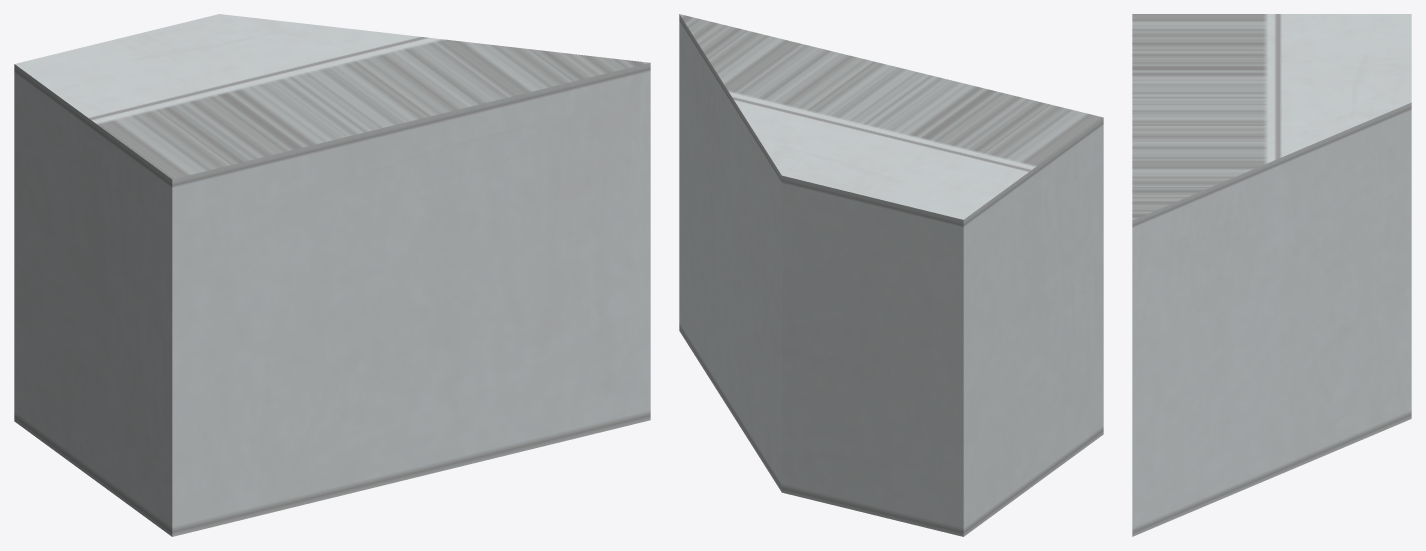
The model's file is Bld_Corner_Ledge_01_L.fbx.
3 views of the same model, side by side, from view 1: azimuth 30°, elevation 25°; view 2: azimuth 150°, elevation 25°; view 3: azimuth 270°, elevation 25° (orthographic). The views are drawn at different scales.
Visible parts, largest first — view 1: Bld_Corner_Ledge_01_L; view 2: Bld_Corner_Ledge_01_L; view 3: Bld_Corner_Ledge_01_L.
Boxes of the visible parts, left/top/right/bottom form: Bld_Corner_Ledge_01_L: left=14, top=14, right=650, bottom=536; Bld_Corner_Ledge_01_L: left=679, top=14, right=1103, bottom=536; Bld_Corner_Ledge_01_L: left=1132, top=14, right=1411, bottom=536.
Bounding box in the file's own units: 0.7 × 0.5 × 0.4.
Materials: 1 (1 with a texture image).
